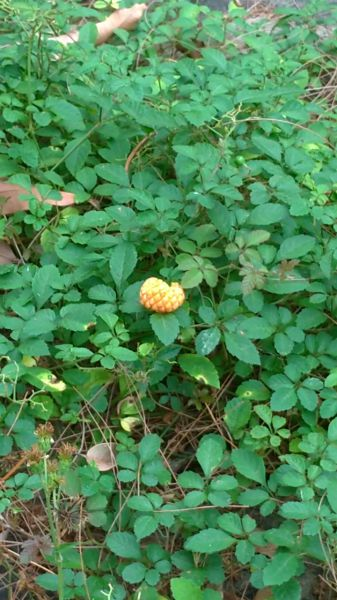eggs: (134, 274, 190, 313)
